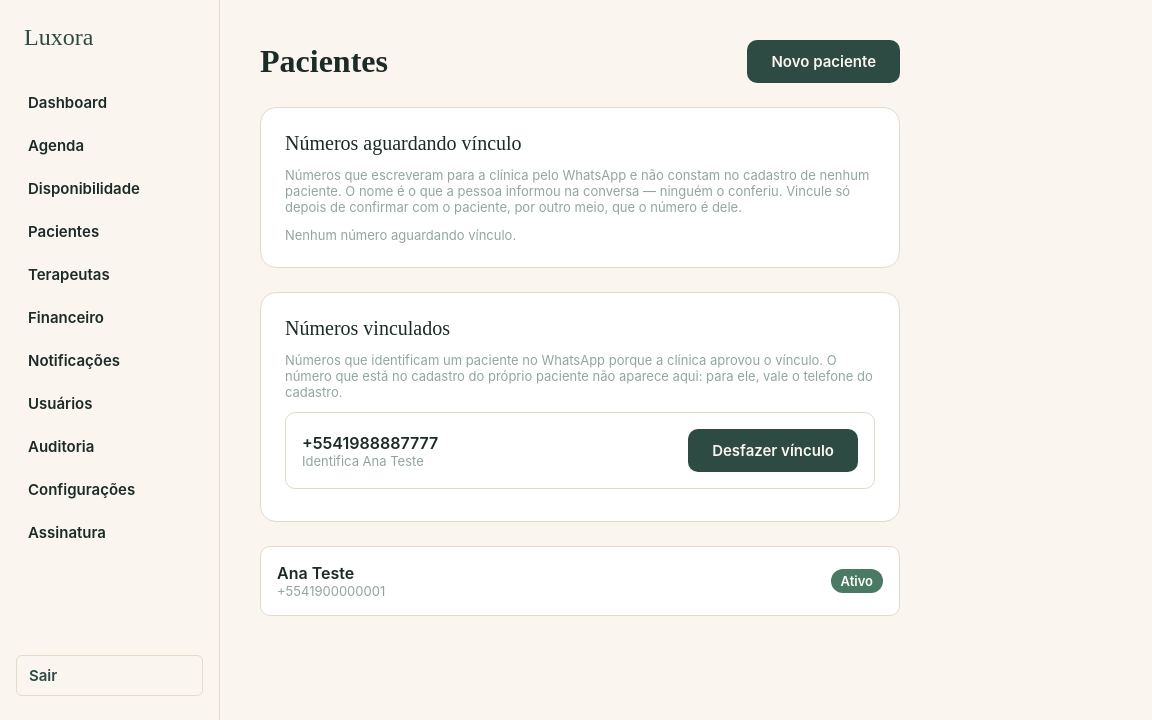
PacientesPage — números vinculados (A-10) › confirmar envia o contato e o paciente, avisa na tela e tira o número da lista
The width and height of the screenshot is (1152, 720).
Click the button "Desfazer vínculo".
click(773, 450)  # box [688,429,858,472]
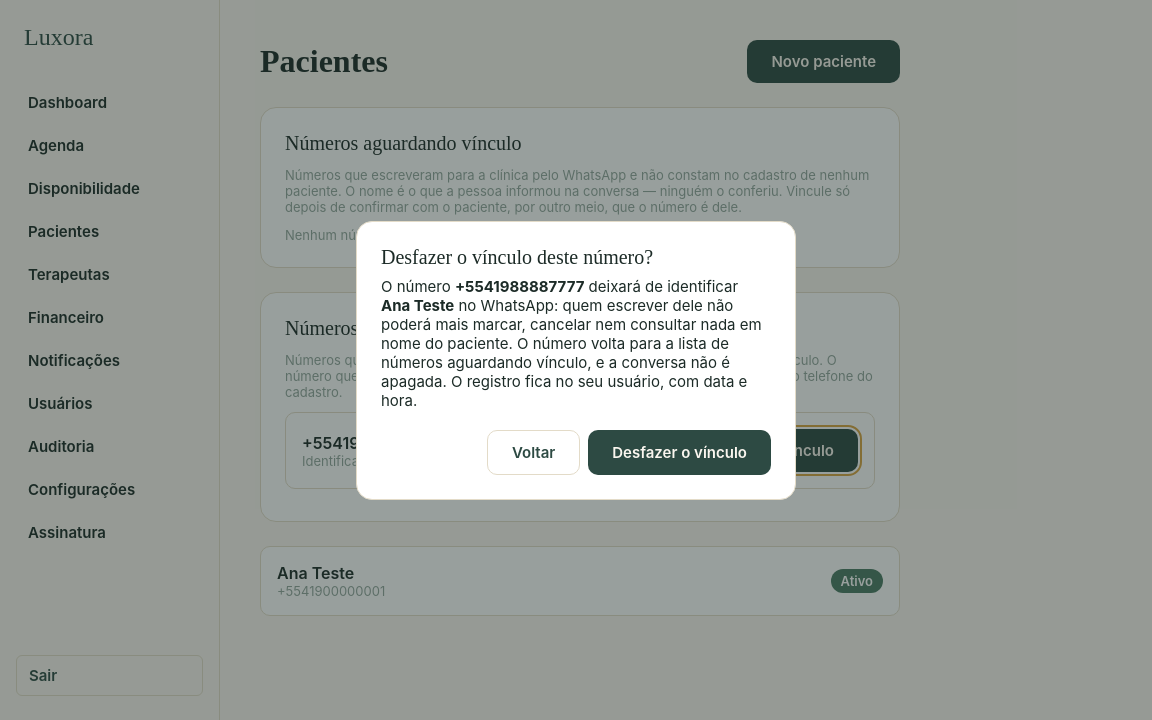
Click the button "Desfazer o vínculo".
click(680, 452)  # box [588,430,771,474]
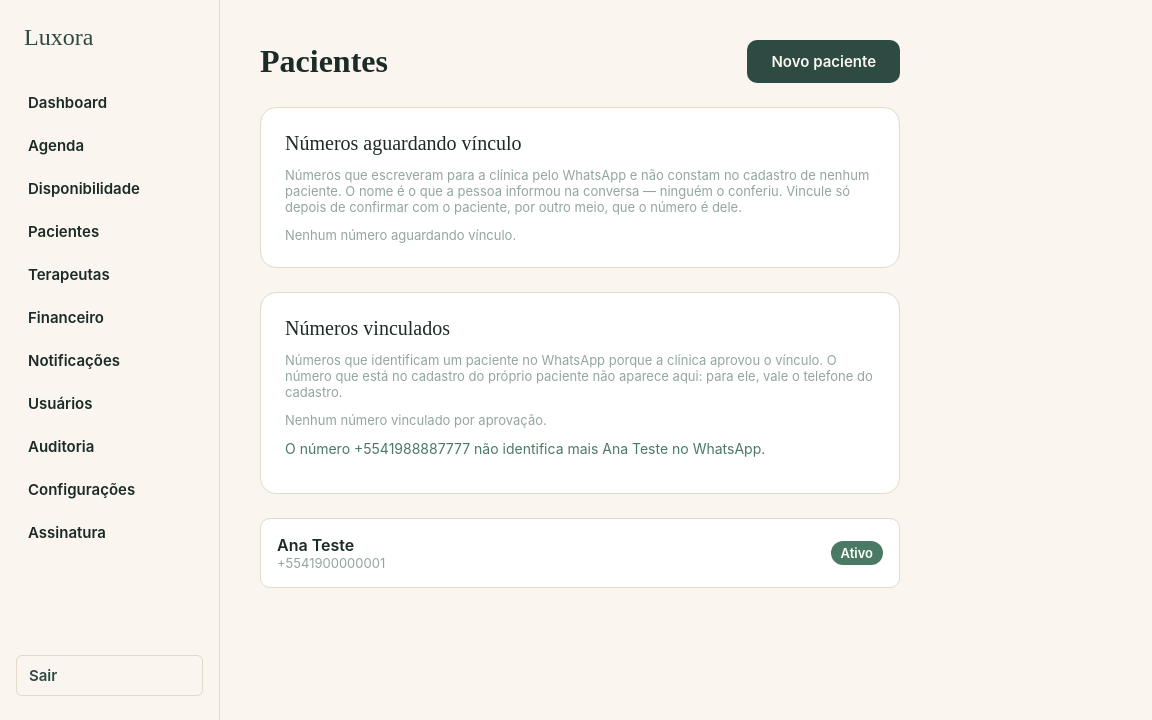
Expected: the message reads "O número +5541988887777 não identifica mais Ana Teste no WhatsApp.", [285,440,765,457]
Expected: the text "Nenhum número vinculado por aprovação." is shown, [285,412,547,428]
